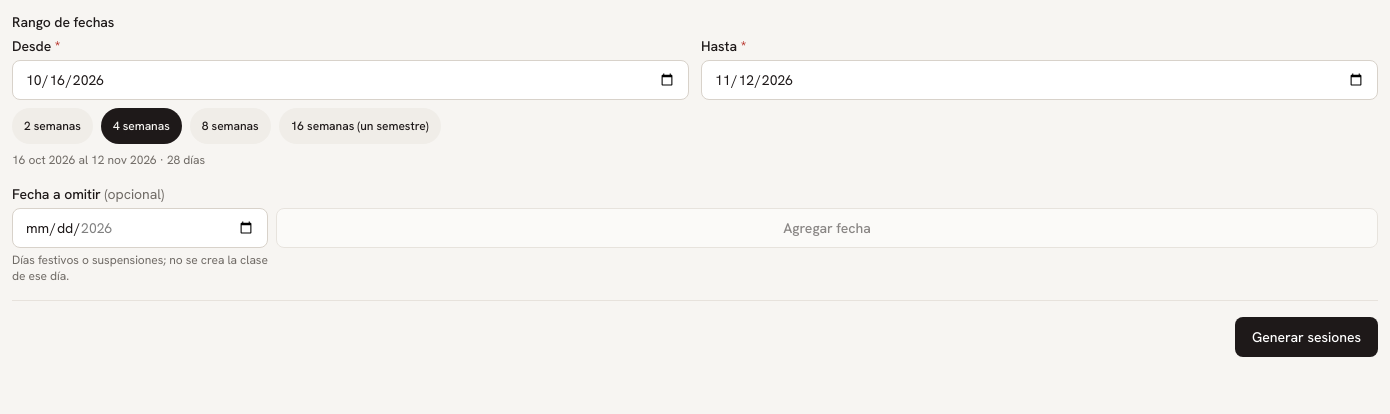
GenerarSesiones › envía el rango y las fechas omitidas (chips) y muestra el resumen creadas/omitidas
Type "2026-09-01" into the date field labelled "Desde *" at (350, 80), box [12, 60, 689, 100]
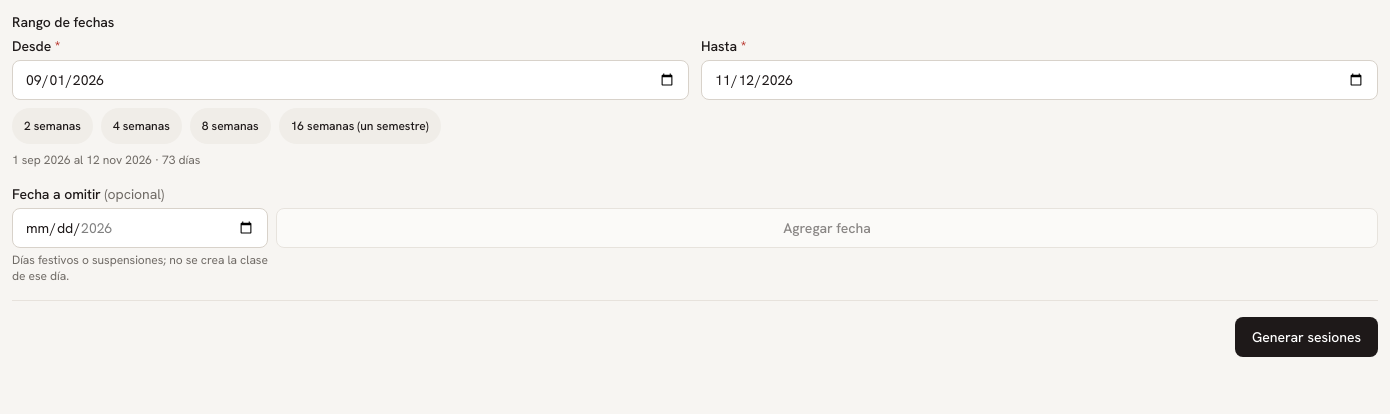
Type "2026-09-30" into the date field labelled "Hasta *" at (1040, 80), box [701, 60, 1378, 100]
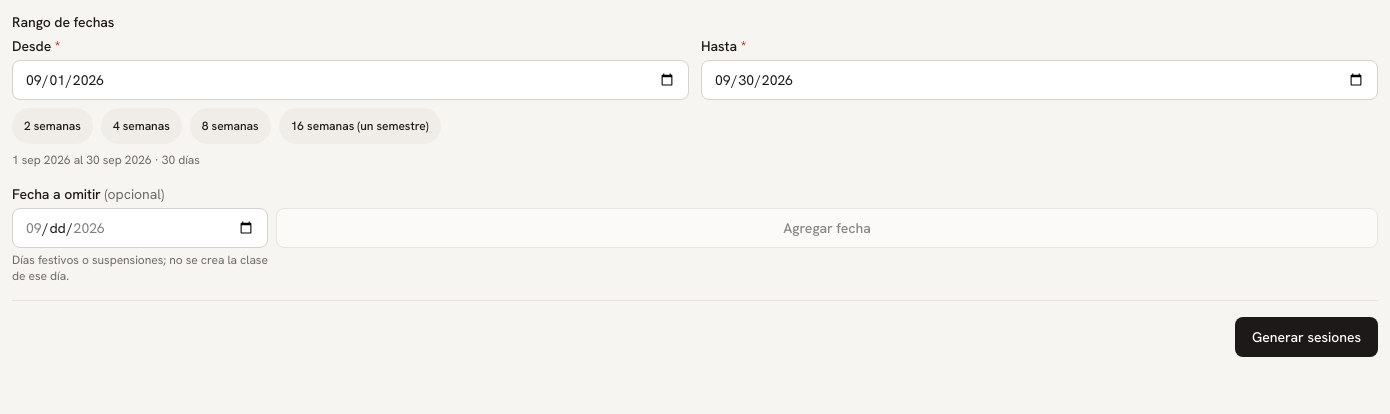
Type "2026-09-16" into the date field labelled "Fecha a omitir (opcional)" at (140, 228), box [12, 208, 268, 248]
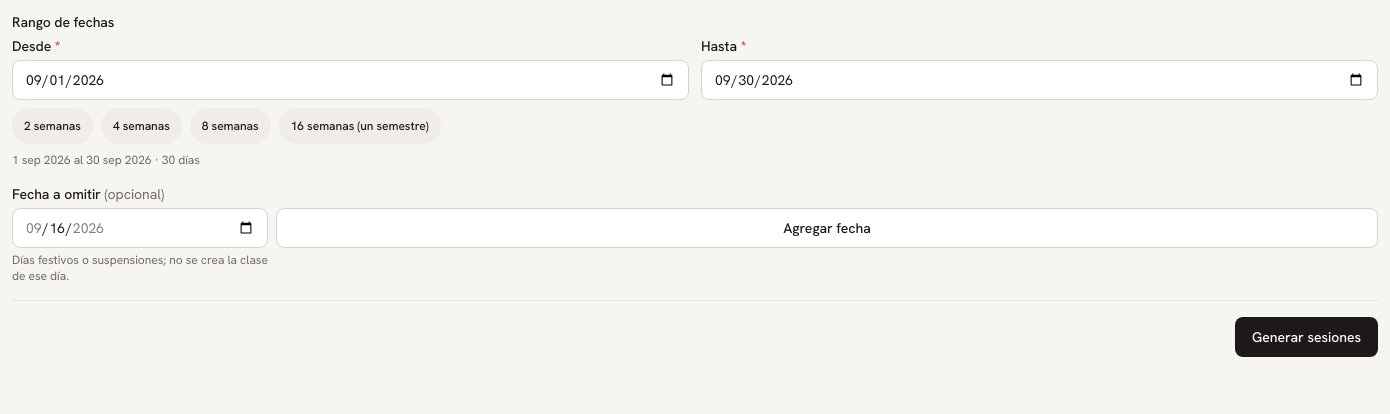
Click the button "Agregar fecha" at (827, 228), box [276, 208, 1378, 248]
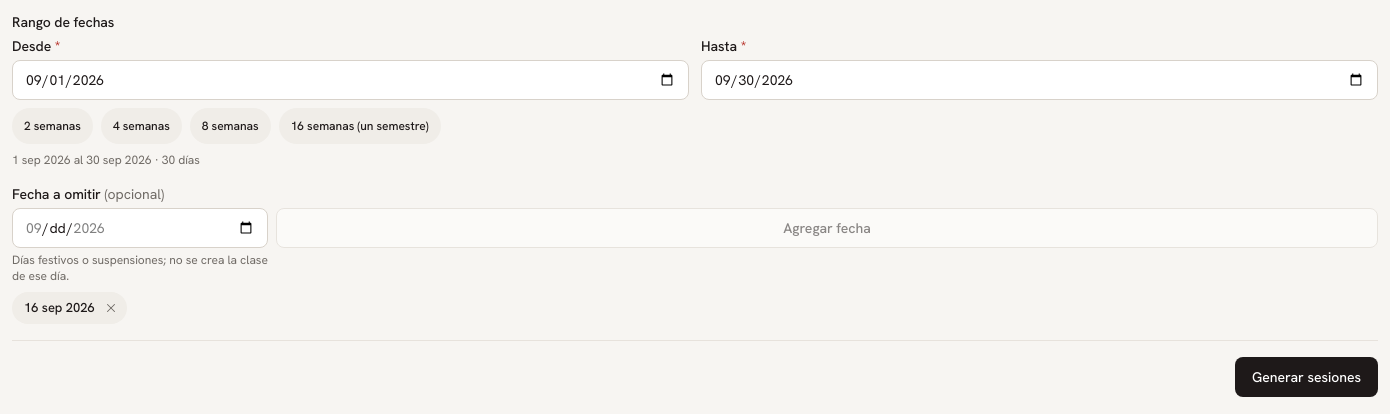
Now the text "16 sep 2026" is shown, box [24, 298, 95, 318]
Click the button "Generar sesiones" at (1306, 377), box [1235, 357, 1378, 397]
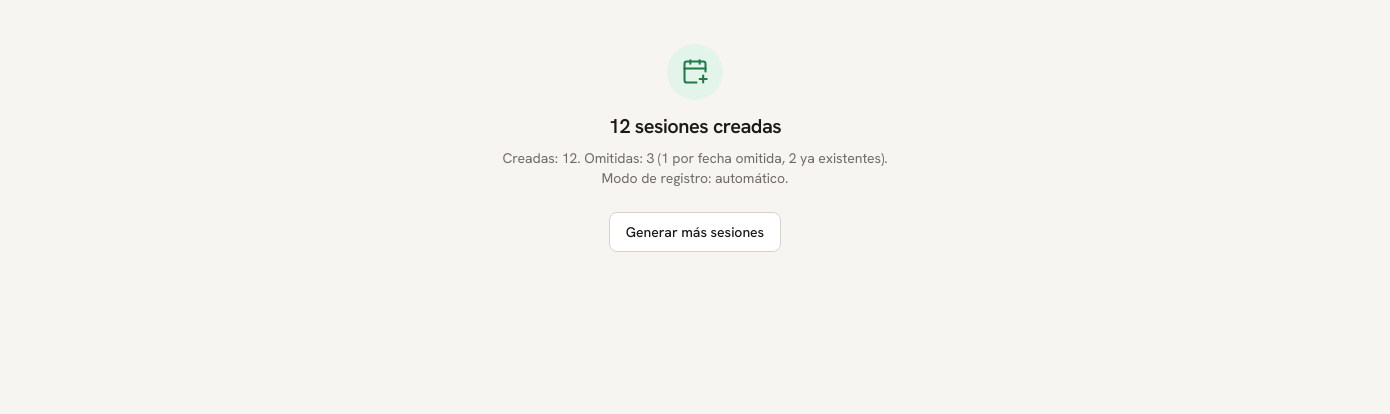
Now the text "Omitidas: 3" is shown, box [502, 149, 888, 187]
Now the heading "12 sesiones creadas" is shown, box [609, 112, 781, 140]
